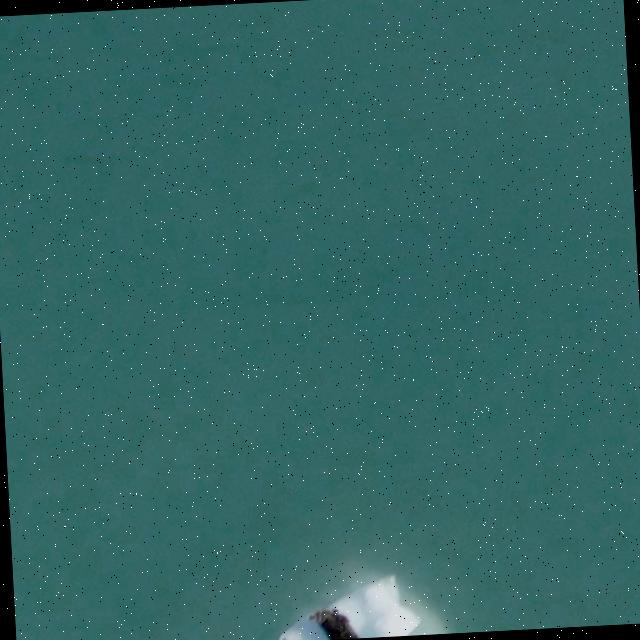seal: (311, 608, 362, 640)
